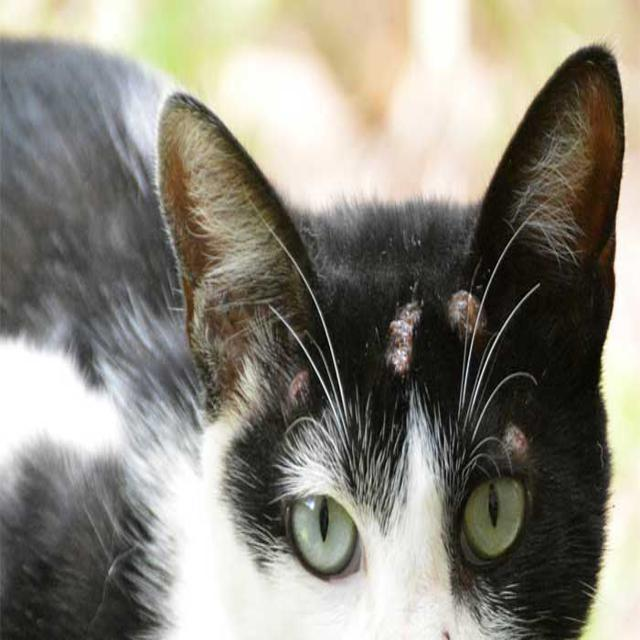lump_and_bump: (386, 314, 417, 375), (456, 295, 483, 332), (505, 424, 531, 455), (289, 374, 309, 404)
